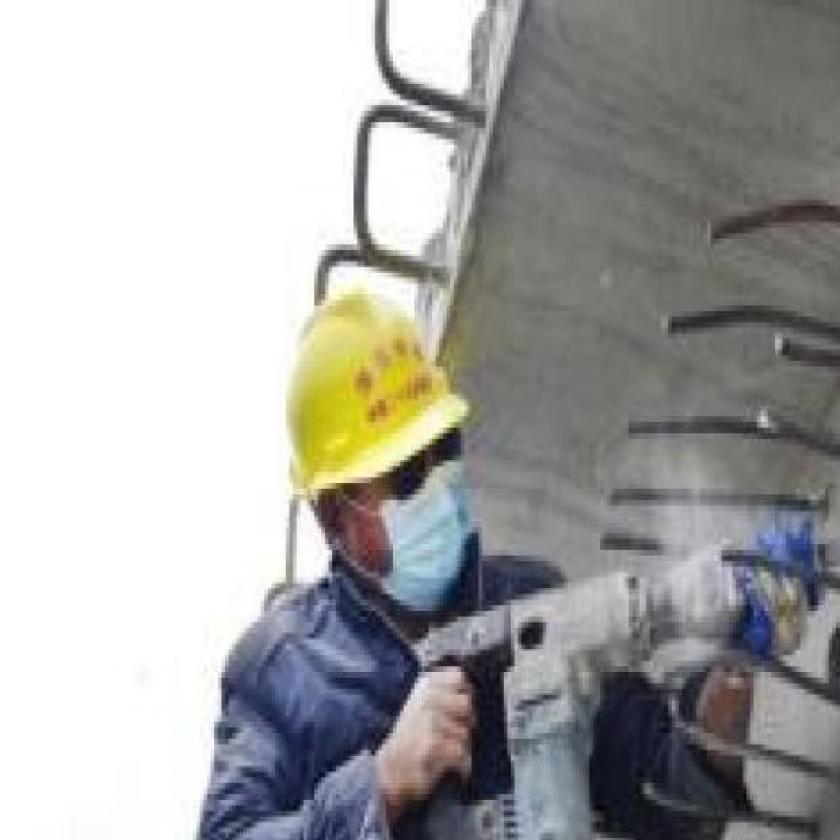Con_casco: (282, 286, 481, 617)
